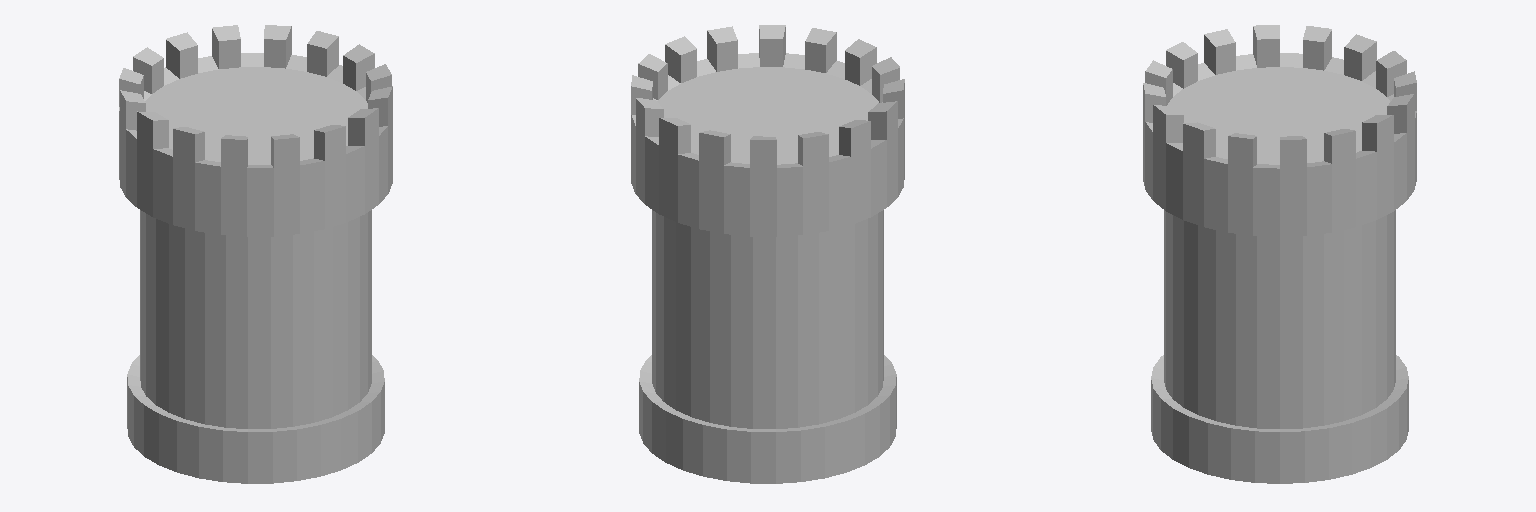
Rendered from castle_tower.obj.
3 renders of one model, left to right at view 1: azimuth 30°, elevation 25°; view 2: azimuth 150°, elevation 25°; view 3: azimuth 270°, elevation 25°, orthographic.
Visible parts, largest first — view 1: turret_top_Cylinder.002; view 2: turret_top_Cylinder.002; view 3: turret_top_Cylinder.002.
Boxes of the visible parts, x1,y1,x2,y2 form: turret_top_Cylinder.002: [119, 25, 392, 483]; turret_top_Cylinder.002: [631, 25, 904, 483]; turret_top_Cylinder.002: [1143, 25, 1416, 483].
Size of the model in its own units: 0.04 by 0.0558 by 0.04.